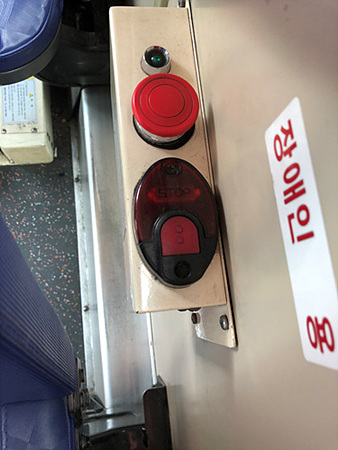bell: (131, 157, 223, 288)
